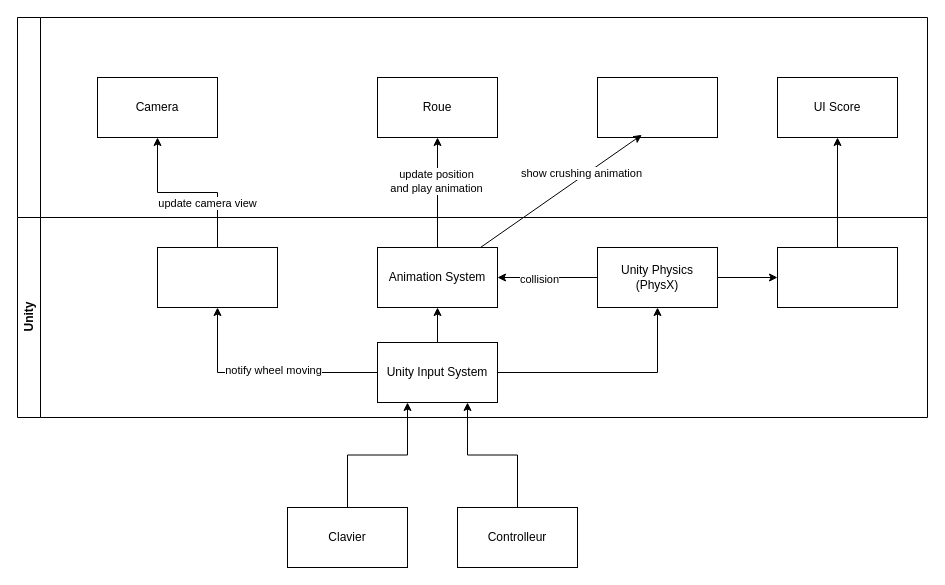
Image size: 945x585. Some labels were removed from this diagram. Here are the shapes that lost their labels. From the top down, the box of each, then its label:
(16, 16, 928, 218): CRUSH !
(596, 76, 718, 138): Hyena
(156, 246, 278, 308): Cinemachine
(776, 246, 898, 308): Unity UI Toolkit
